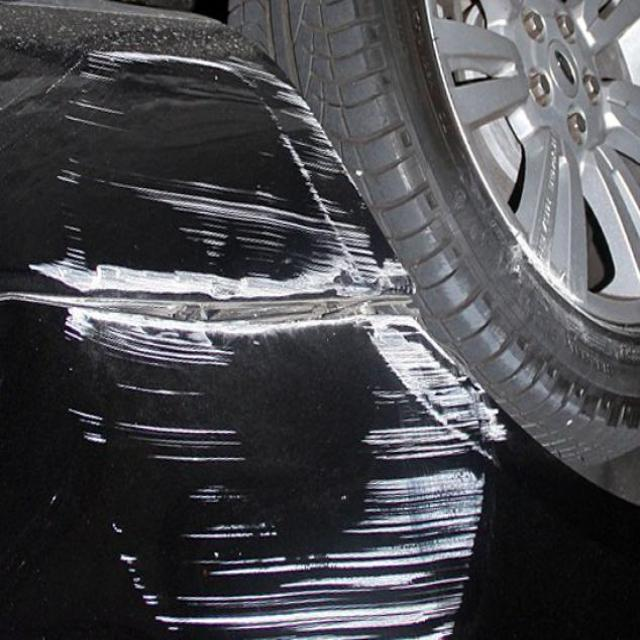scratch: (49, 39, 506, 640)
